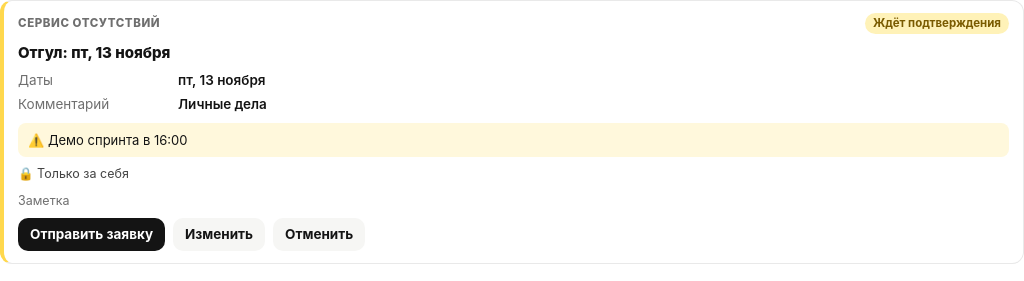
Test case: ActionCard › [UI-07] confirms a planned action and shows the receipt
Check: the list item "Демо спринта в 16:00" is shown, box left=48, top=132, right=188, bottom=148
Check: the text "🔒 Только за себя" is shown, box left=18, top=166, right=129, bottom=181
Click the button "Отправить заявку" at (92,234), box left=18, top=218, right=165, bottom=251
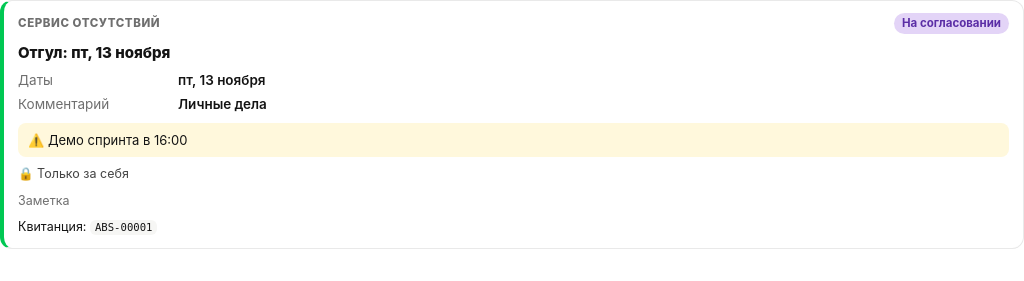
Check: the text "ABS-00001" is shown, box left=90, top=220, right=158, bottom=235
Check: the text "На согласовании" is shown, box left=894, top=13, right=1009, bottom=34
